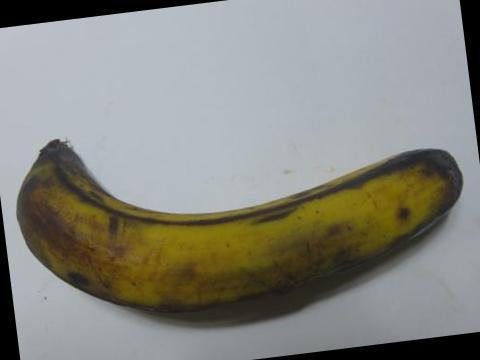rotten: (18, 128, 471, 329)
